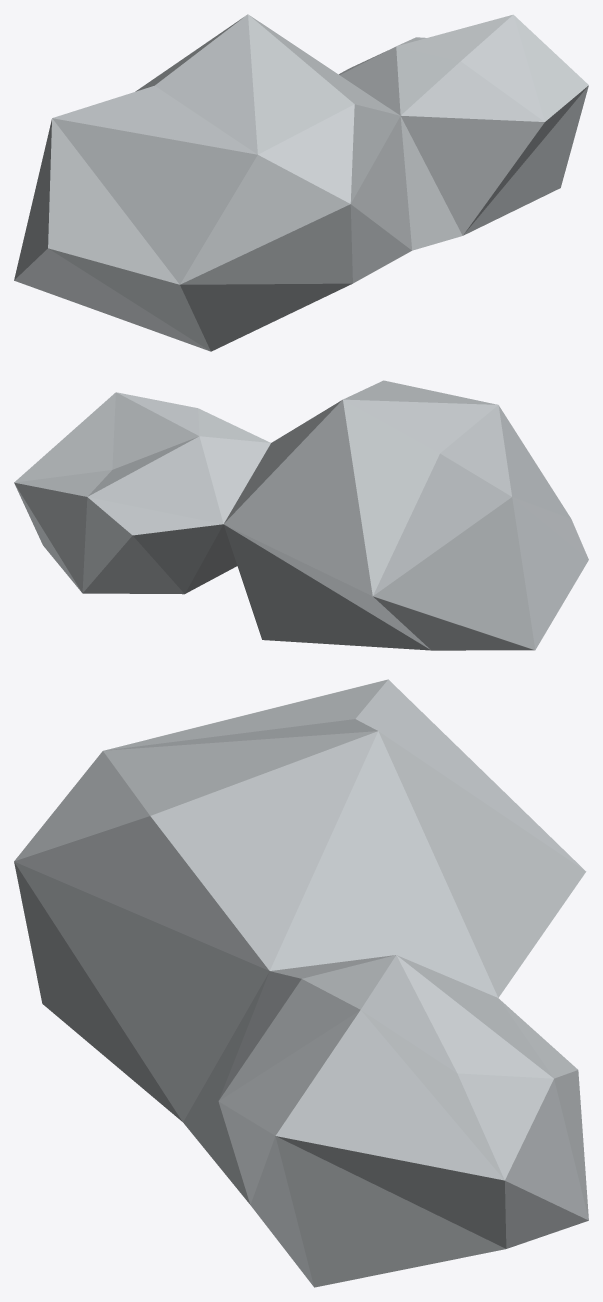
File: MAKONIS_002.FBX
3 renders of one model, top to bottom at view 1: azimuth 30°, elevation 25°; view 2: azimuth 150°, elevation 25°; view 3: azimuth 270°, elevation 25°, orthographic. The views are drawn at different scales.
Parts seen in each view (by area): view 1: MAKONIS_002; view 2: MAKONIS_002; view 3: MAKONIS_002.
Boxes of the visible parts, x1,y1,x2,y2 form: MAKONIS_002: (14, 14, 588, 351); MAKONIS_002: (14, 380, 588, 650); MAKONIS_002: (14, 679, 588, 1287).
Size of the model in its own units: 15968 by 7113 by 9430.
1 material, 1 textured.
